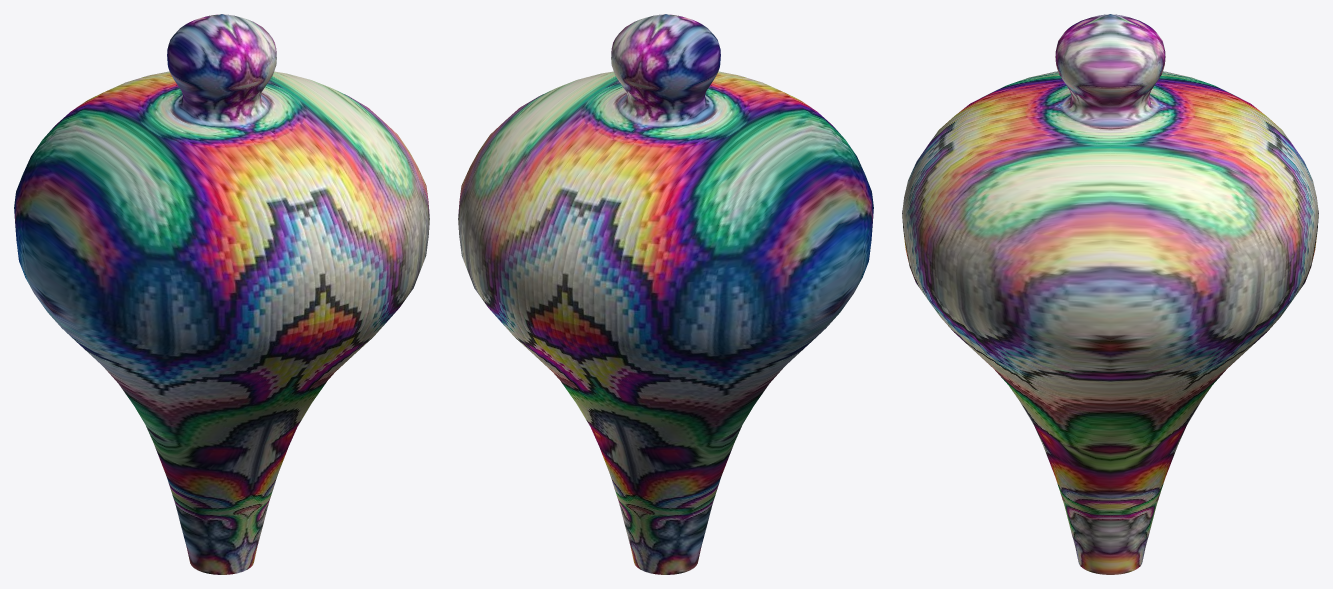
File: piao.dae
The picture shows the model from 3 angles, left to right: view 1: azimuth 30°, elevation 25°; view 2: azimuth 150°, elevation 25°; view 3: azimuth 270°, elevation 25°; orthographic projection.
Visible parts, largest first — view 1: Circle; view 2: Circle; view 3: Circle.
Part boxes in pixels (left/top/right/bottom): Circle: left=14, top=14, right=429, bottom=574; Circle: left=458, top=14, right=873, bottom=574; Circle: left=902, top=14, right=1318, bottom=574.
Size of the model in its own units: 4.68 by 4.68 by 6.77.
Materials: 1 (1 with a texture image).
